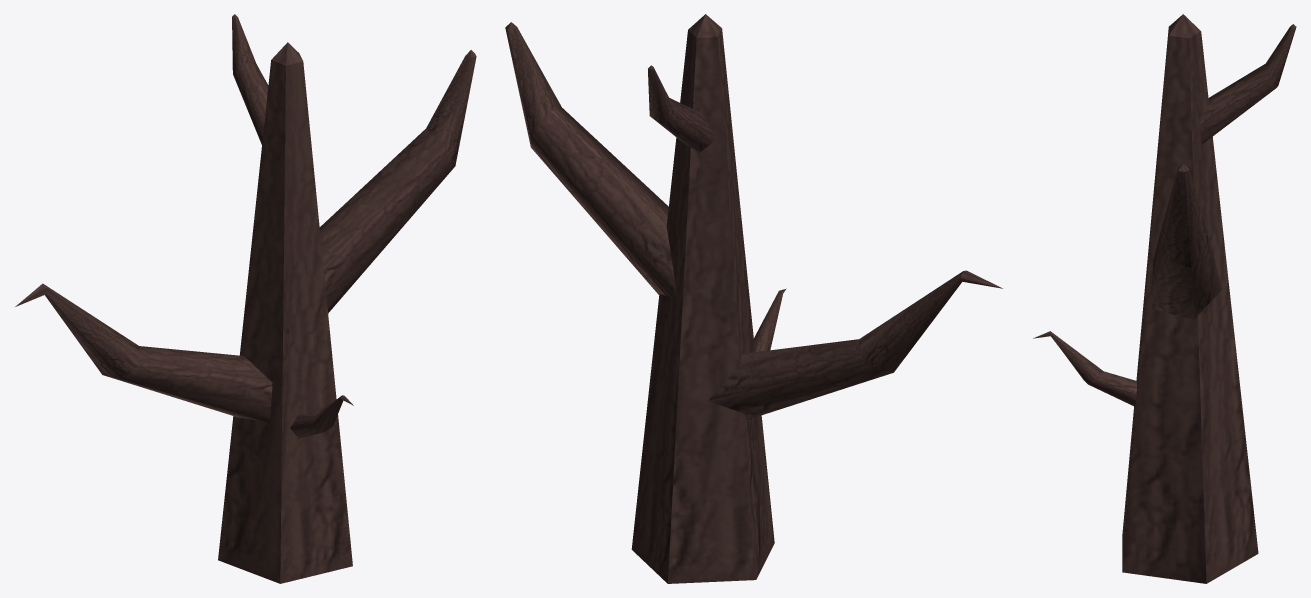
The model's file is dead-tree.fbx.
3 renders of one model, left to right at view 1: azimuth 30°, elevation 25°; view 2: azimuth 150°, elevation 25°; view 3: azimuth 270°, elevation 25°, orthographic. The views are drawn at different scales.
Visible parts, largest first — view 1: Cone.037; view 2: Cone.037; view 3: Cone.037.
Boxes of the visible parts, x1,y1,x2,y2 form: Cone.037: [15, 14, 476, 583]; Cone.037: [505, 14, 1002, 583]; Cone.037: [1033, 14, 1296, 583].
Size of the model in its own units: 345 by 363 by 161.
